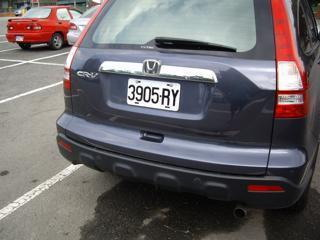plate: (126, 78, 182, 113)
